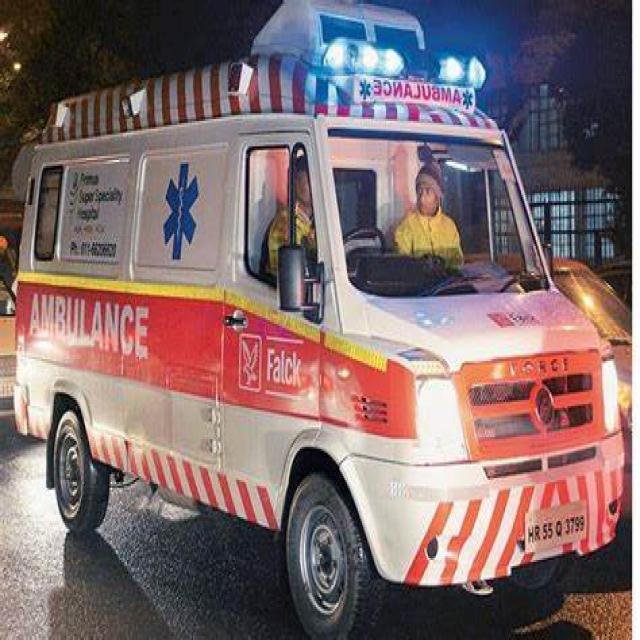ambulance: (285, 14, 482, 101)
